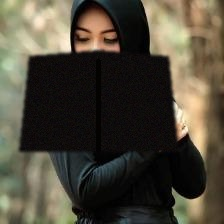Cadar_Niqab: (19, 0, 178, 151)
